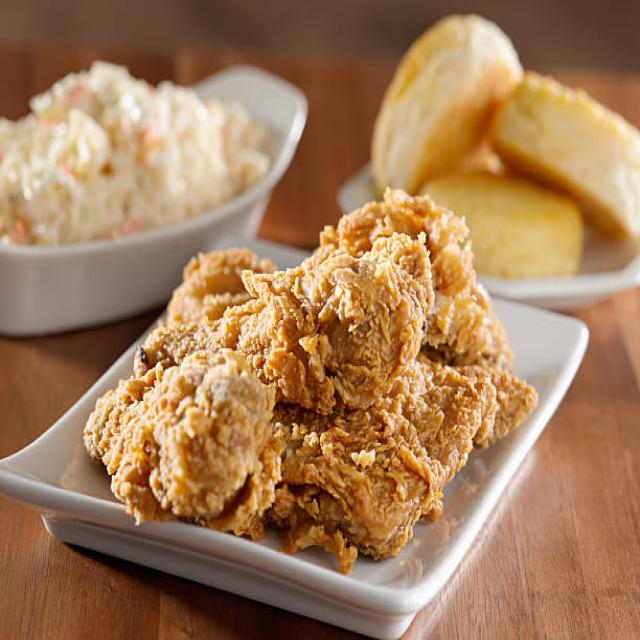Frango: (74, 182, 540, 573)
